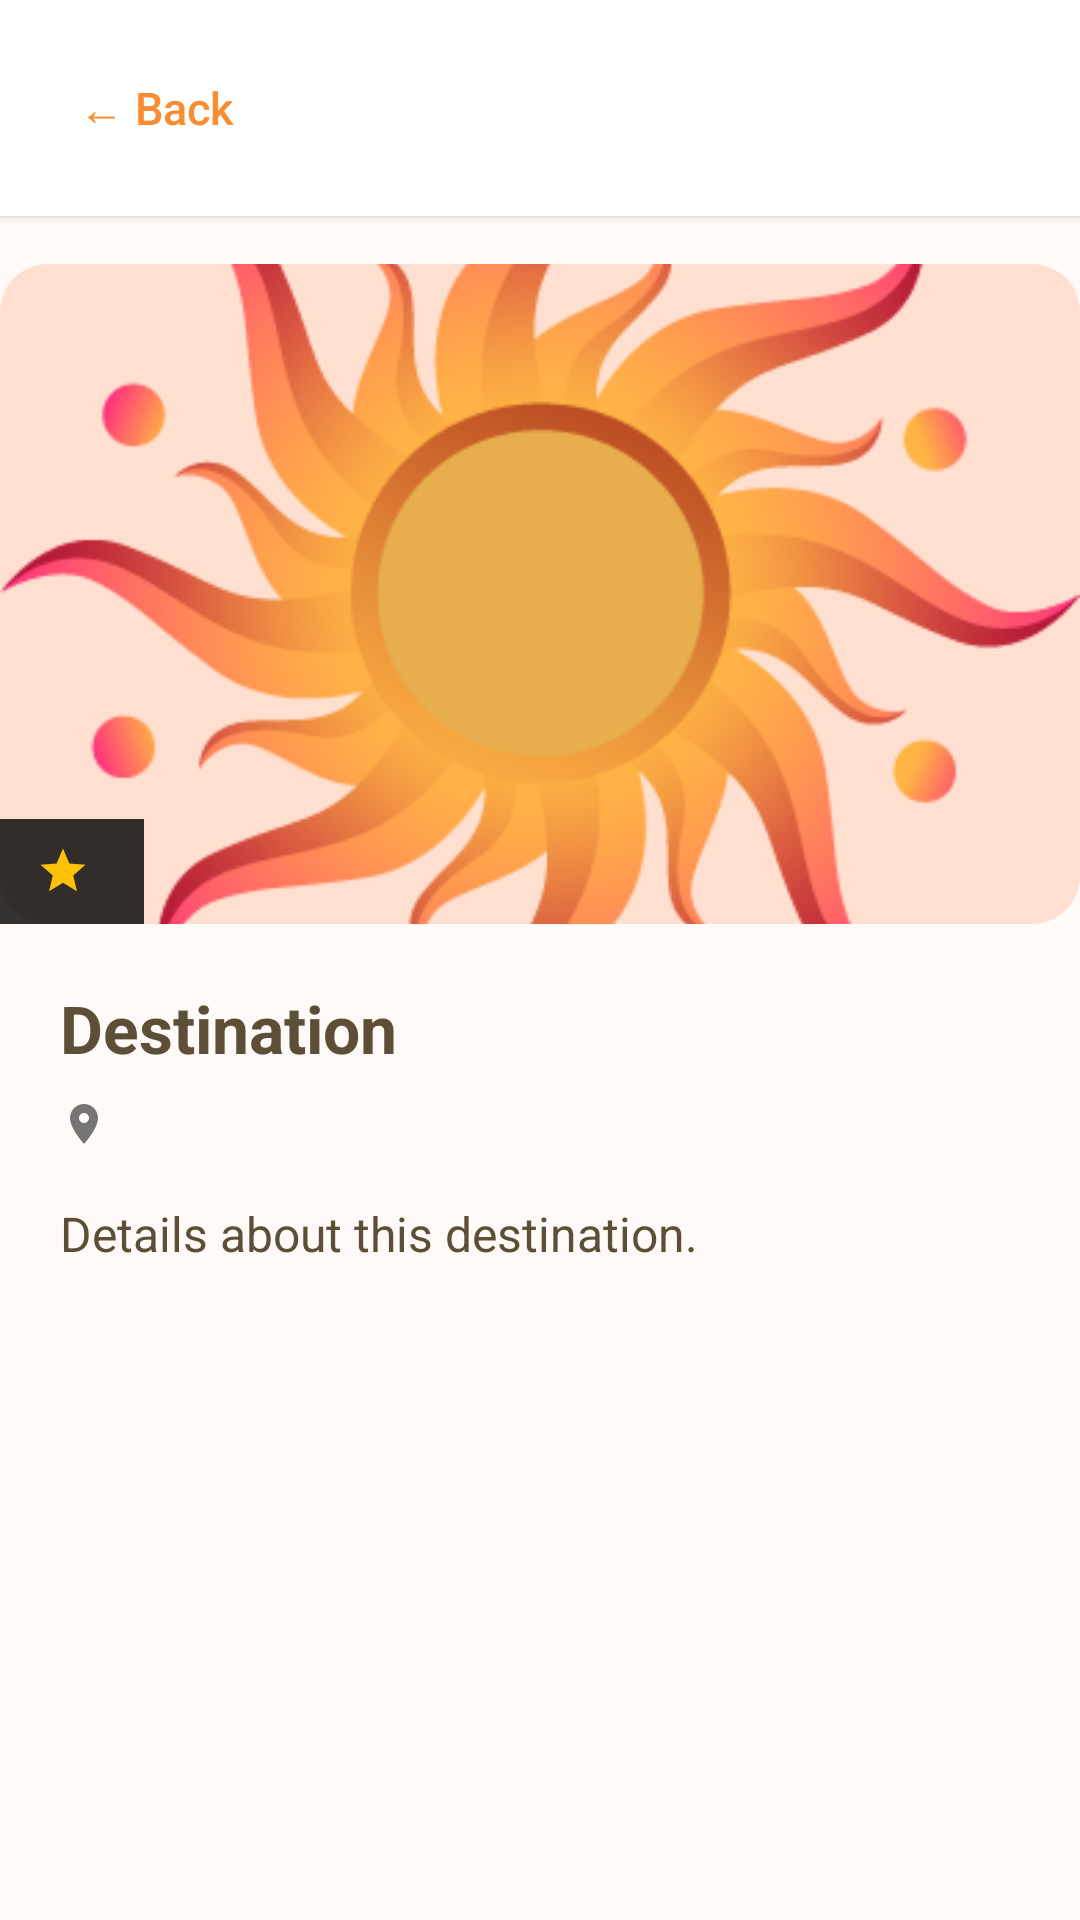

Icons on this 1080px×1920px Android screen, each with the point to tap as [x,y]:
Location: [84,1124]
Rating: [63,870]
